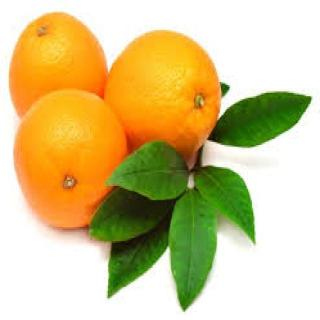orange: (15, 66, 130, 254), (106, 18, 218, 192), (0, 22, 111, 136)
